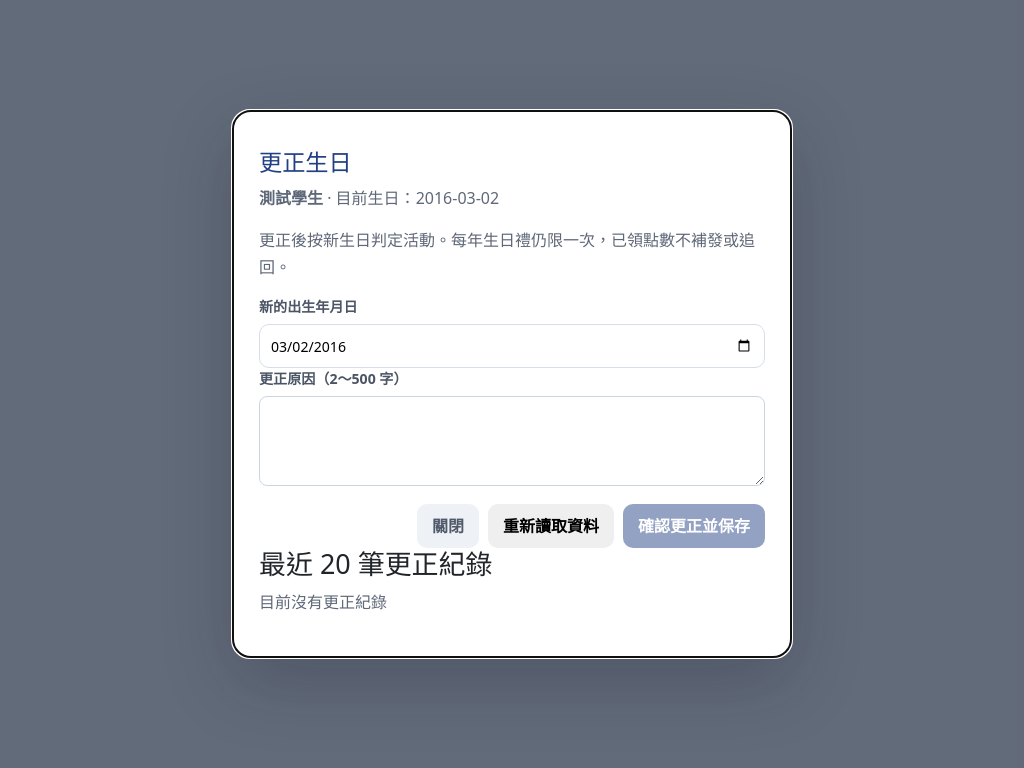
Test case: ordinary failure retains the draft and does not display false success
Type "2016-10-02" into the date field labelled "新的出生年月日".
click(512, 346); type("2016-10-02")  # box x1=259 y1=324 x2=765 y2=368
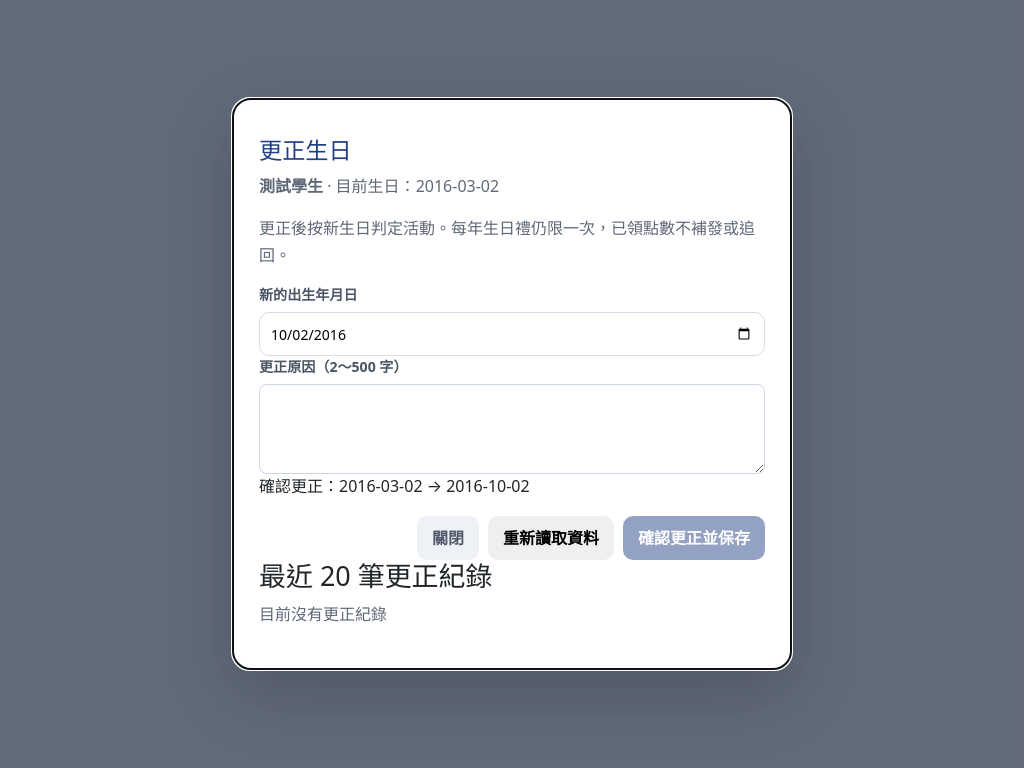
Type "測試帳號生日更正" into the text box labelled "更正原因（2～500 字）".
click(512, 429); type("測試帳號生日更正")  # box x1=259 y1=384 x2=765 y2=474
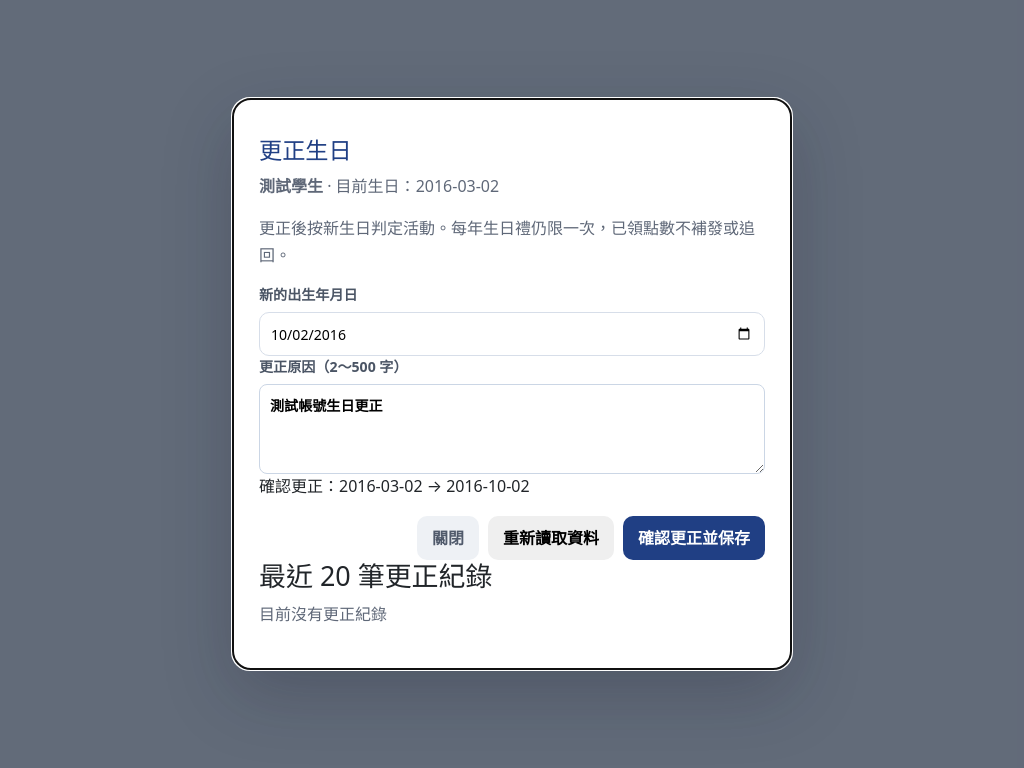
Click the button "確認更正並保存".
click(694, 538)  # box x1=623 y1=516 x2=765 y2=560
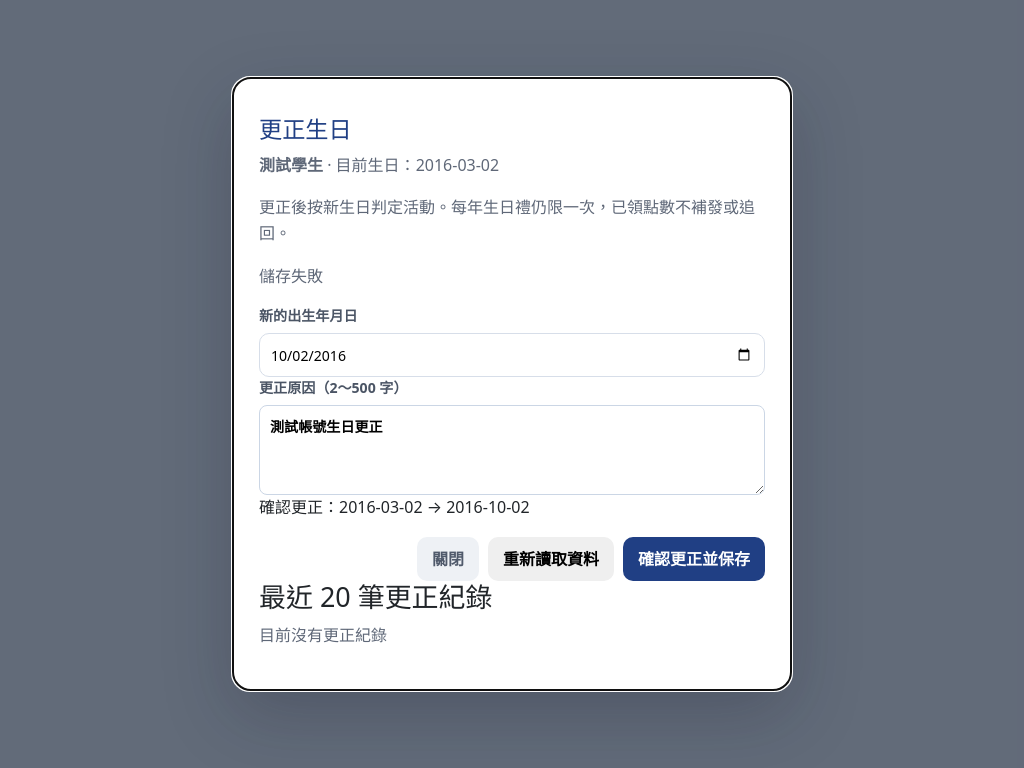
Expected: the message "儲存失敗" is shown, x1=259 y1=265 x2=323 y2=287
